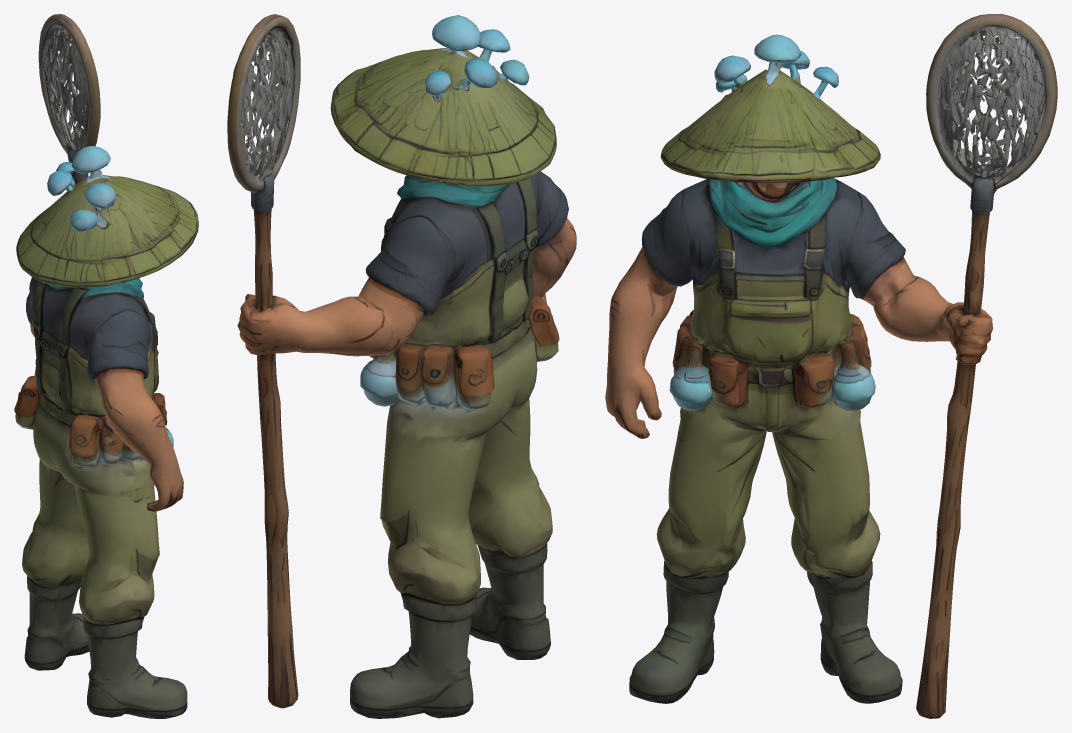
The model's file is r2_fisher.c7aaa970.glb.
3 renders of one model, left to right at view 1: azimuth 30°, elevation 25°; view 2: azimuth 150°, elevation 25°; view 3: azimuth 270°, elevation 25°, orthographic. The views are drawn at different scales.
Visible parts, largest first — view 1: tripo_node_ac398fd2-b014-4e92-9a7b-001d9792187d; view 2: tripo_node_ac398fd2-b014-4e92-9a7b-001d9792187d; view 3: tripo_node_ac398fd2-b014-4e92-9a7b-001d9792187d.
Part boxes in pixels (x1,y1,x2,y2): tripo_node_ac398fd2-b014-4e92-9a7b-001d9792187d: [14, 14, 198, 718]; tripo_node_ac398fd2-b014-4e92-9a7b-001d9792187d: [227, 14, 576, 718]; tripo_node_ac398fd2-b014-4e92-9a7b-001d9792187d: [605, 14, 1057, 718].
Size of the model in its own units: 0.2858 by 1 by 0.5827.
1 material, 1 textured.
